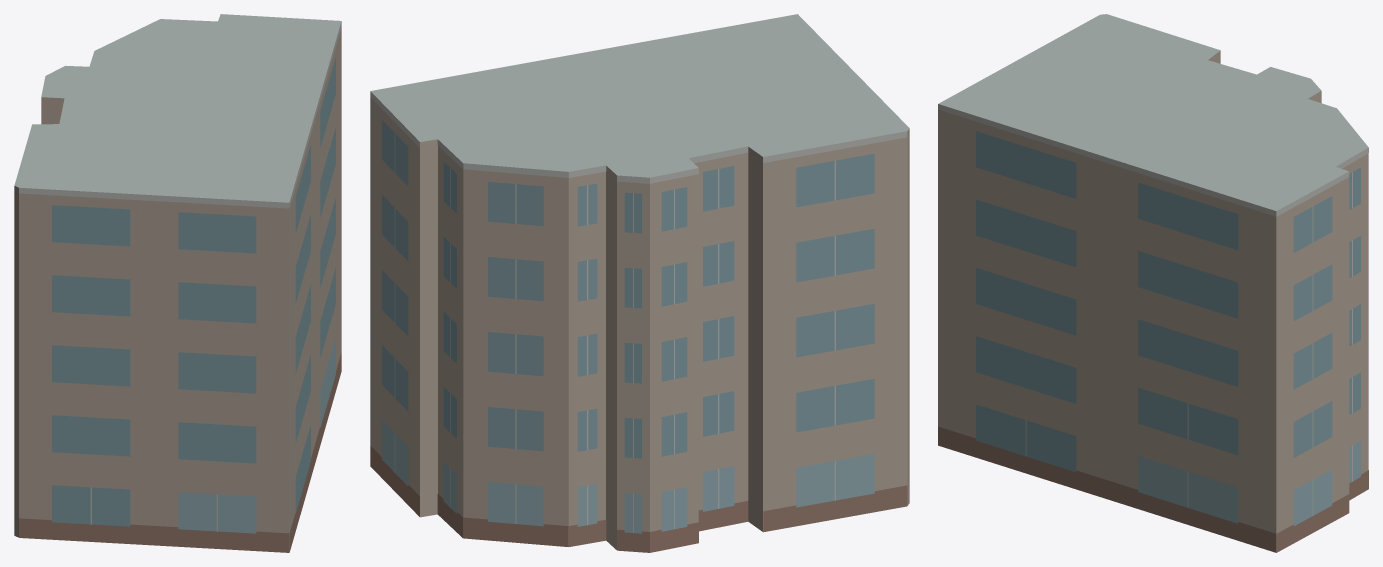
File: survey-upis-32721999.glb
3 views of the same model, side by side, from view 1: azimuth 30°, elevation 25°; view 2: azimuth 150°, elevation 25°; view 3: azimuth 270°, elevation 25° (orthographic). The views are drawn at different scales.
Parts seen in each view (by area): view 1: survey-upis-32721999.tmp; view 2: survey-upis-32721999.tmp; view 3: survey-upis-32721999.tmp.
Boxes of the visible parts, x1,y1,x2,y2 form: survey-upis-32721999.tmp: (14,14,341,552); survey-upis-32721999.tmp: (370,14,909,552); survey-upis-32721999.tmp: (938,14,1368,552).
Bounding box in the file's own units: 18.46 × 14.9 × 17.03.
